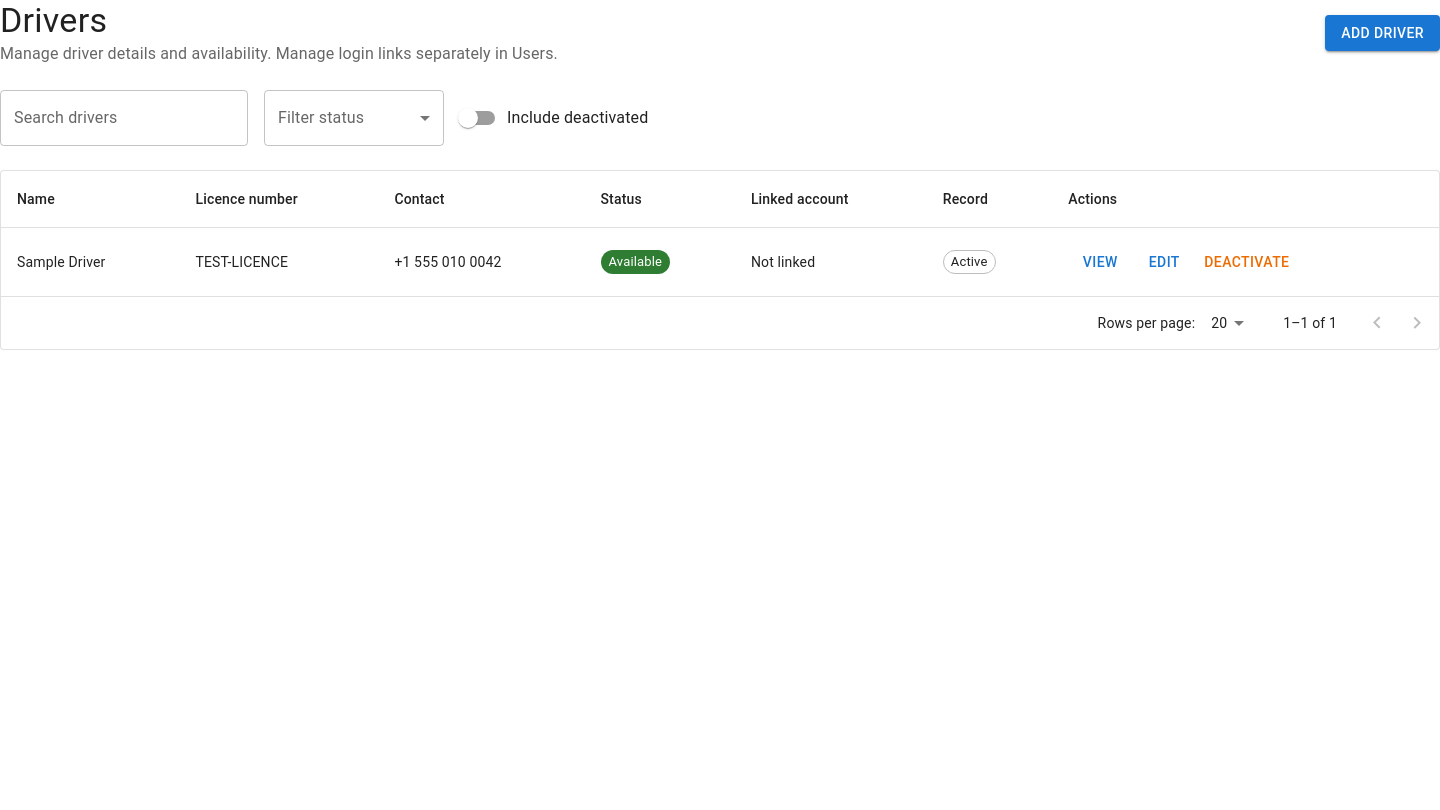
Test case: edits using the loaded concurrency version
Click the button with aria-label "Edit Sample Driver" at (1164, 262), box [1132,244,1196,280]
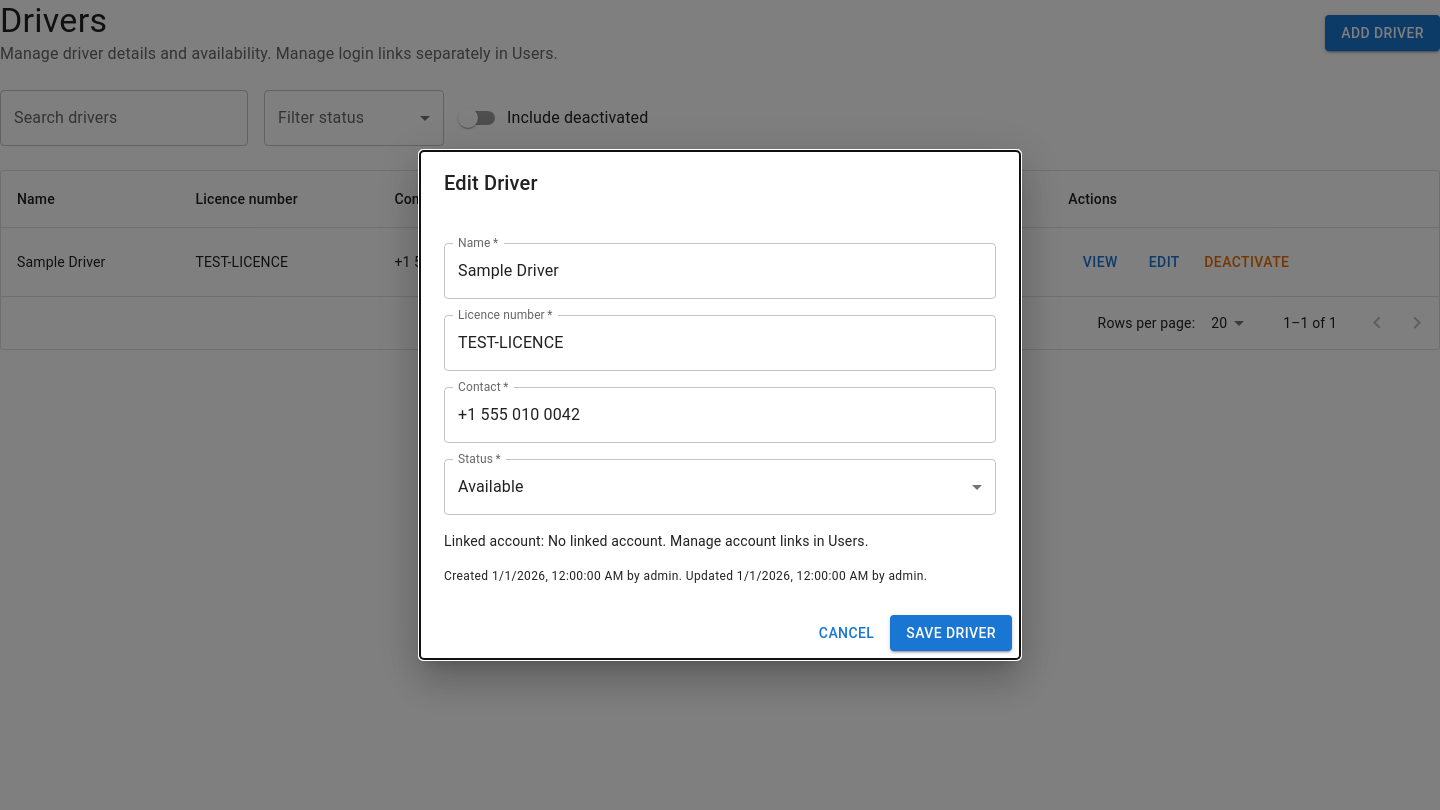
Replace the text in the field labelled "Name" with "Updated record" at (720, 271), box [444,243,996,299]
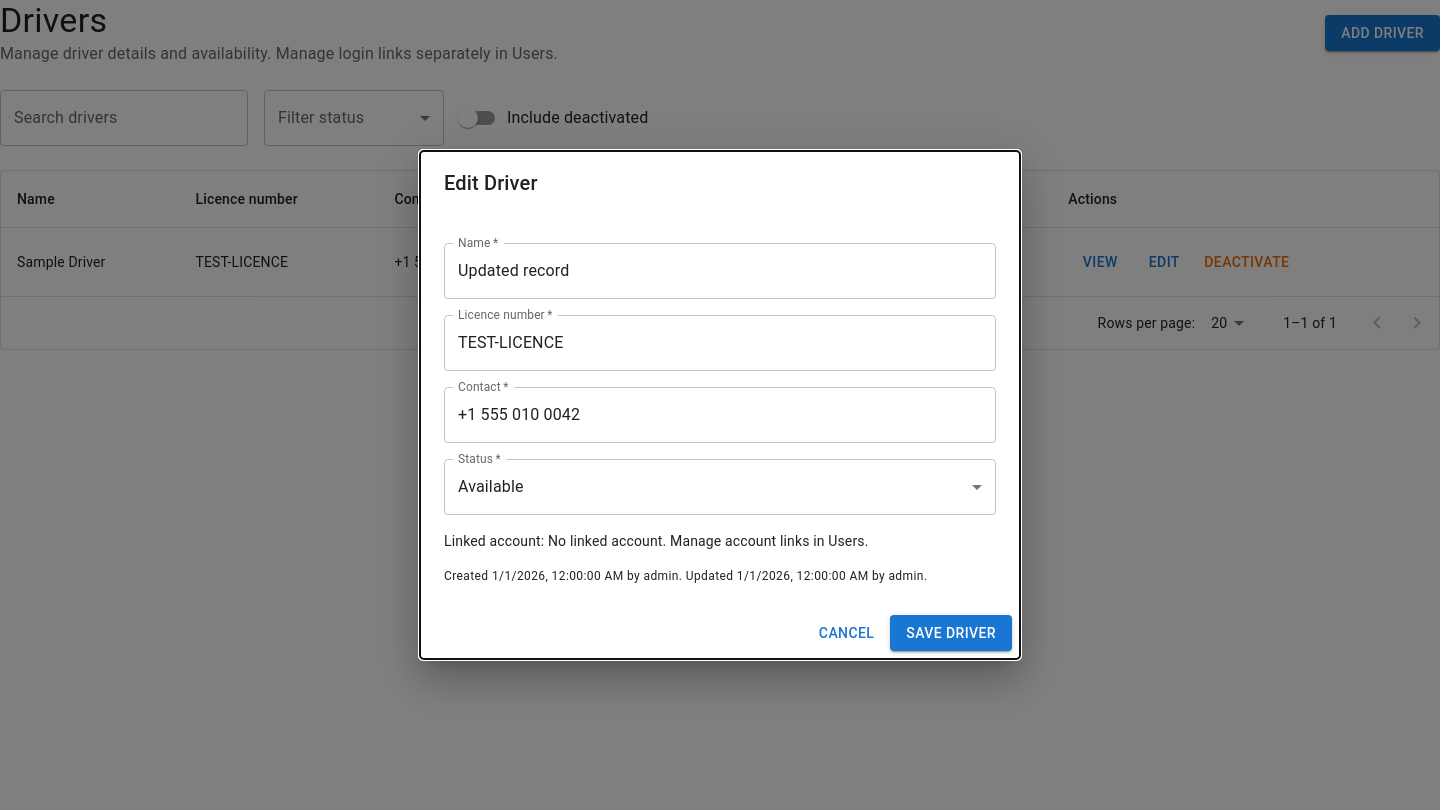
Click the button "Save driver" at (951, 633), box [890,615,1012,651]
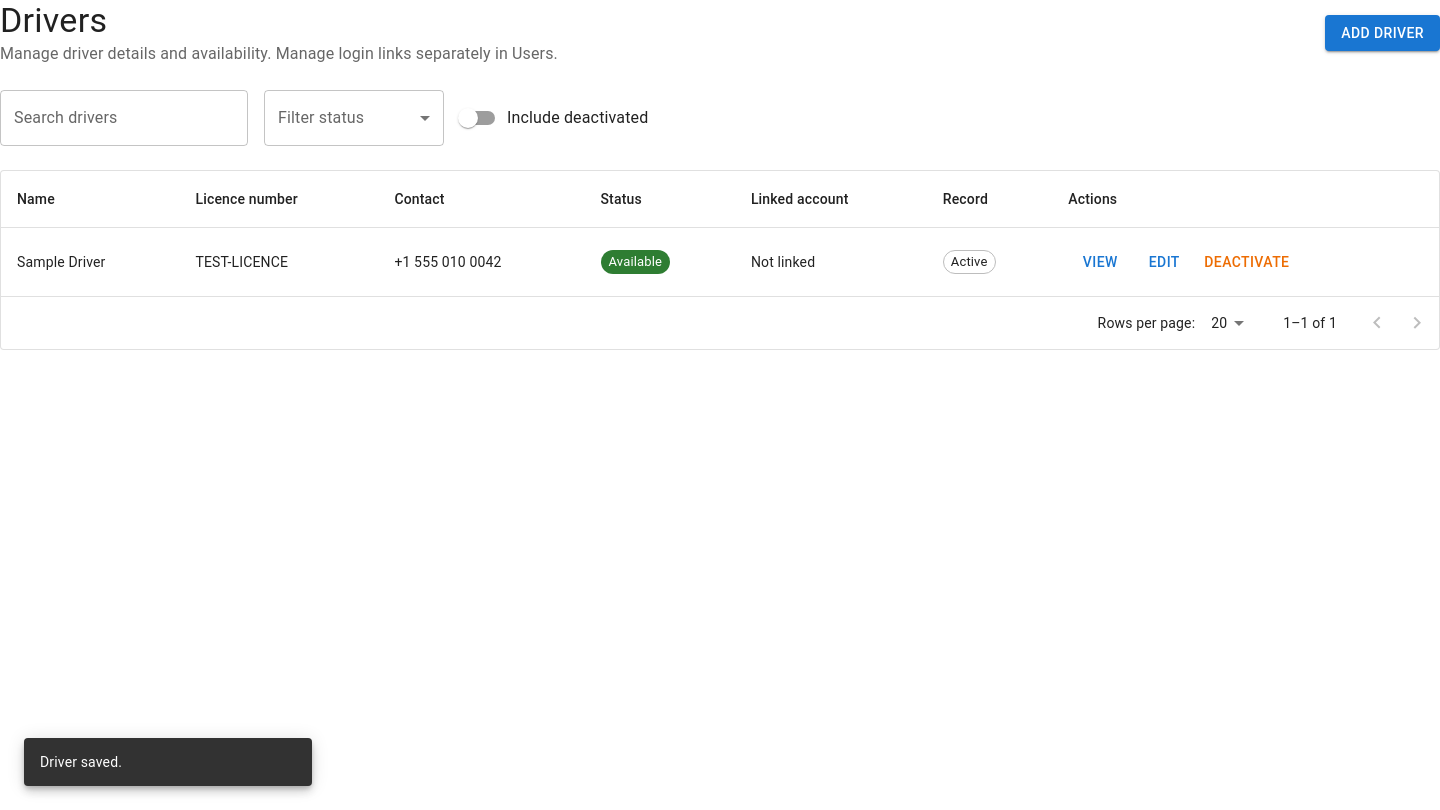
Result: the text "Driver saved." is shown at [40,754,122,770]
